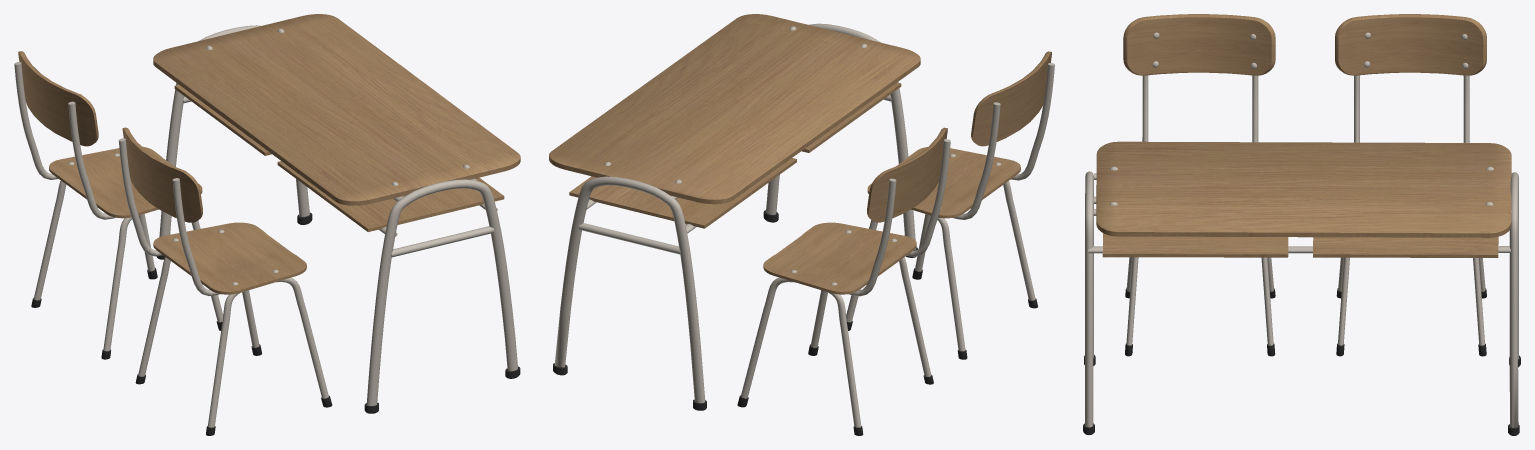
File: zhuoyi.FBX
3 renders of one model, left to right at view 1: azimuth 30°, elevation 25°; view 2: azimuth 150°, elevation 25°; view 3: azimuth 270°, elevation 25°, orthographic.
Parts seen in each view (by area): view 1: Zhuo03, Yi01, Yi06; view 2: Zhuo03, Yi06, Yi01; view 3: Zhuo03, Yi01, Yi06.
Boxes of the visible parts, x1=… form: Zhuo03: x1=153, y1=14, x2=520, y2=413; Yi01: x1=118, y1=127, x2=332, y2=435; Yi06: x1=14, y1=51, x2=223, y2=359; Zhuo03: x1=549, y1=14, x2=920, y2=410; Yi06: x1=737, y1=127, x2=950, y2=435; Yi01: x1=846, y1=51, x2=1054, y2=359; Zhuo03: x1=1083, y1=141, x2=1520, y2=435; Yi01: x1=1123, y1=14, x2=1275, y2=356; Yi06: x1=1335, y1=14, x2=1486, y2=356.
Bounding box in the file's own units: 128 × 96.38 × 143.
